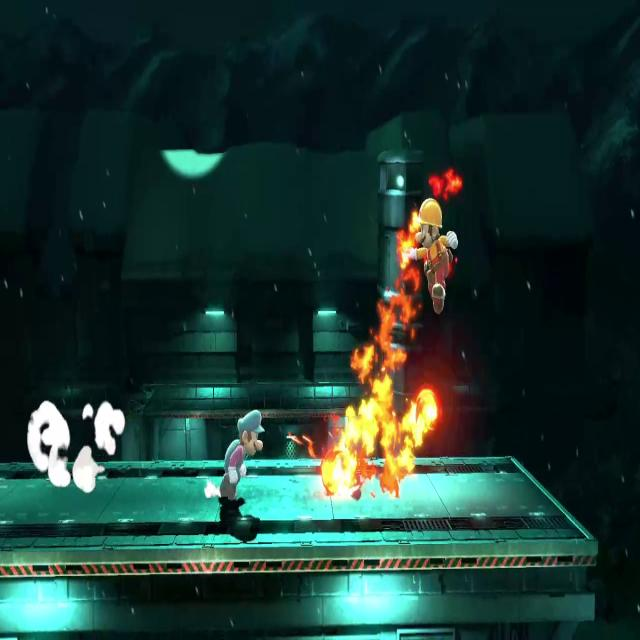Mario: (219, 405, 267, 504)
Mario-NB: (399, 194, 460, 319)
